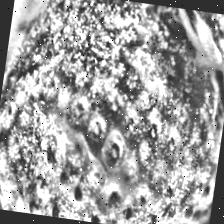Powdery Mildew Fruit: (0, 0, 224, 224), (187, 10, 224, 72)
